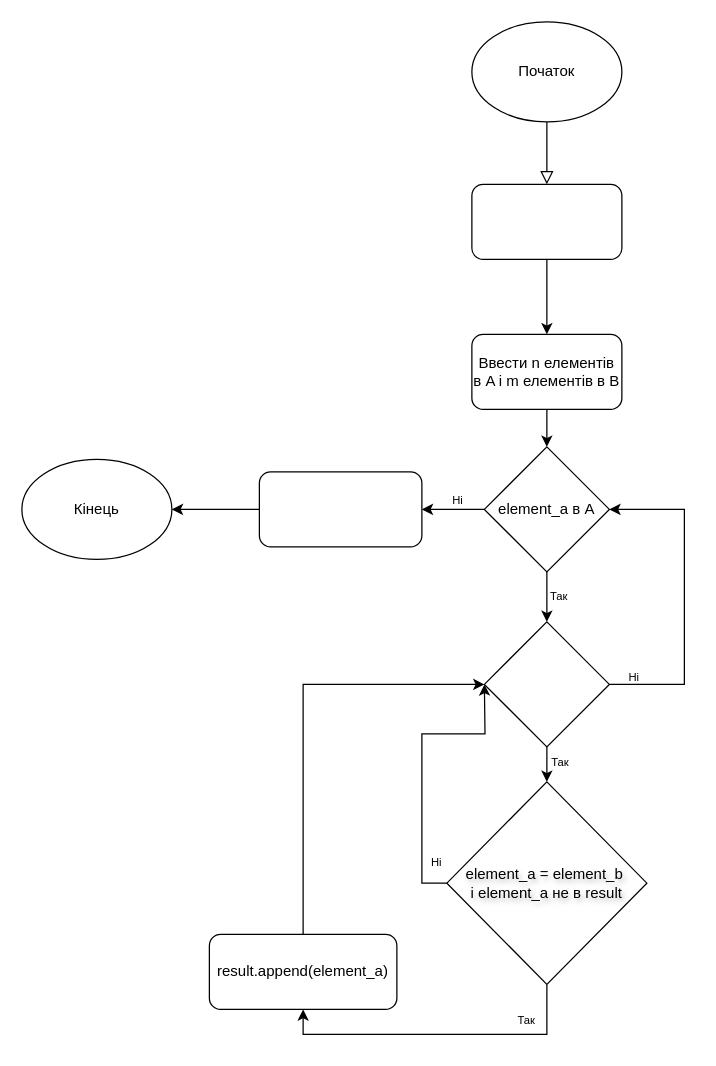
Image size: 716x1066. Some labels were removed from this diagram. Here are the shapes that lost their labels. From the top down, the centre of each, then its label:
At (x=546, y=221): "Ввести n, m A = [] B = [] result = []".
At (x=340, y=509): "len_result = len(result) print(len_result)".
At (x=546, y=684): "element_b в B".
